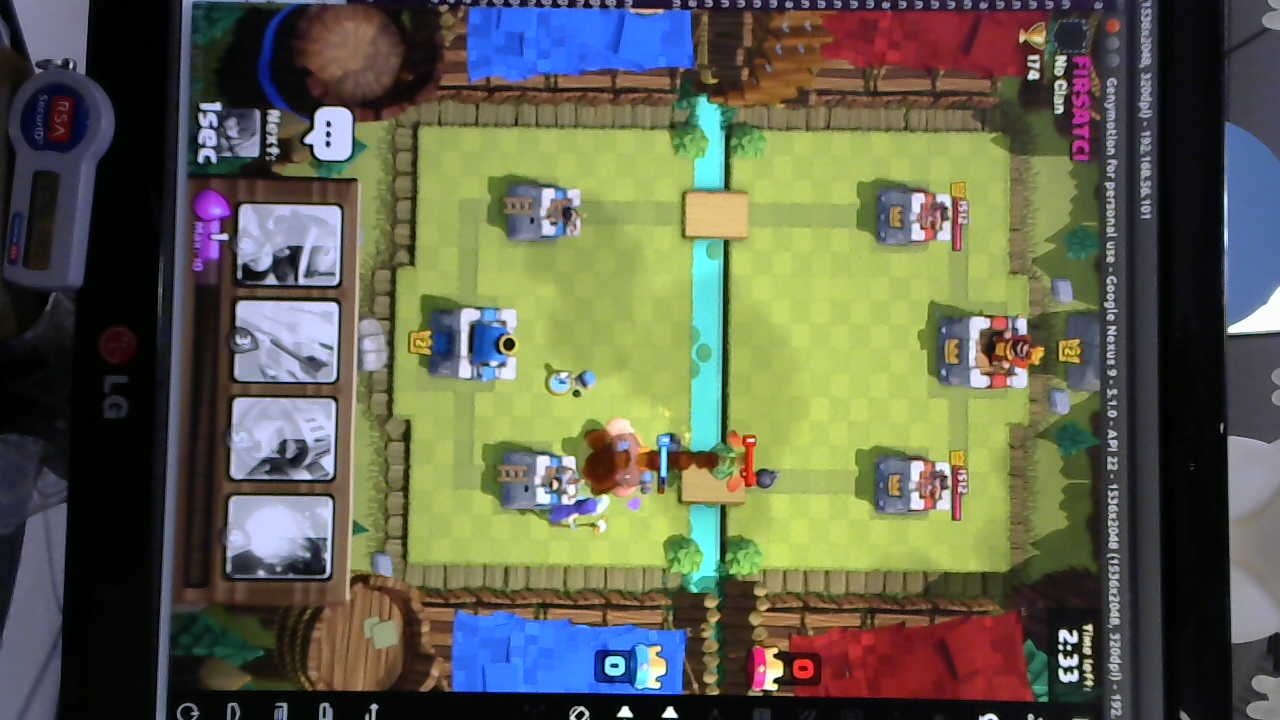arena: (499, 447, 581, 513), (506, 178, 586, 242)
bomb: (569, 360, 600, 396)
dragon: (706, 427, 747, 494)
earena: (871, 455, 955, 519), (875, 186, 955, 248)
eking: (930, 309, 1038, 394)
giant: (590, 416, 656, 500)
king: (438, 300, 524, 385)
witch: (536, 500, 606, 526)
